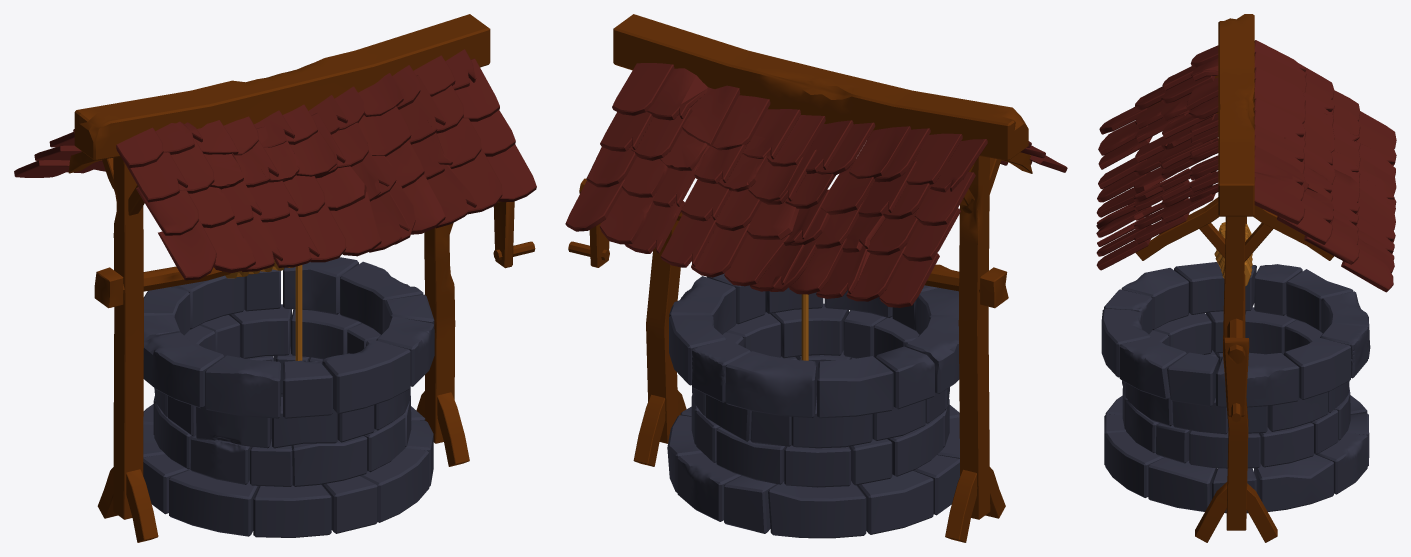
File: Well1.fbx
3 views of the same model, side by side, from view 1: azimuth 30°, elevation 25°; view 2: azimuth 150°, elevation 25°; view 3: azimuth 270°, elevation 25° (orthographic). The views are drawn at different scales.
Parts seen in each view (by area): view 1: Plane.000; view 2: Plane.000; view 3: Plane.000.
Boxes of the visible parts, left/top/right/bottom form: Plane.000: left=14, top=14, right=536, bottom=542; Plane.000: left=565, top=14, right=1067, bottom=542; Plane.000: left=1096, top=14, right=1396, bottom=542.
Bounding box in the file's own units: 666 × 600 × 437.
